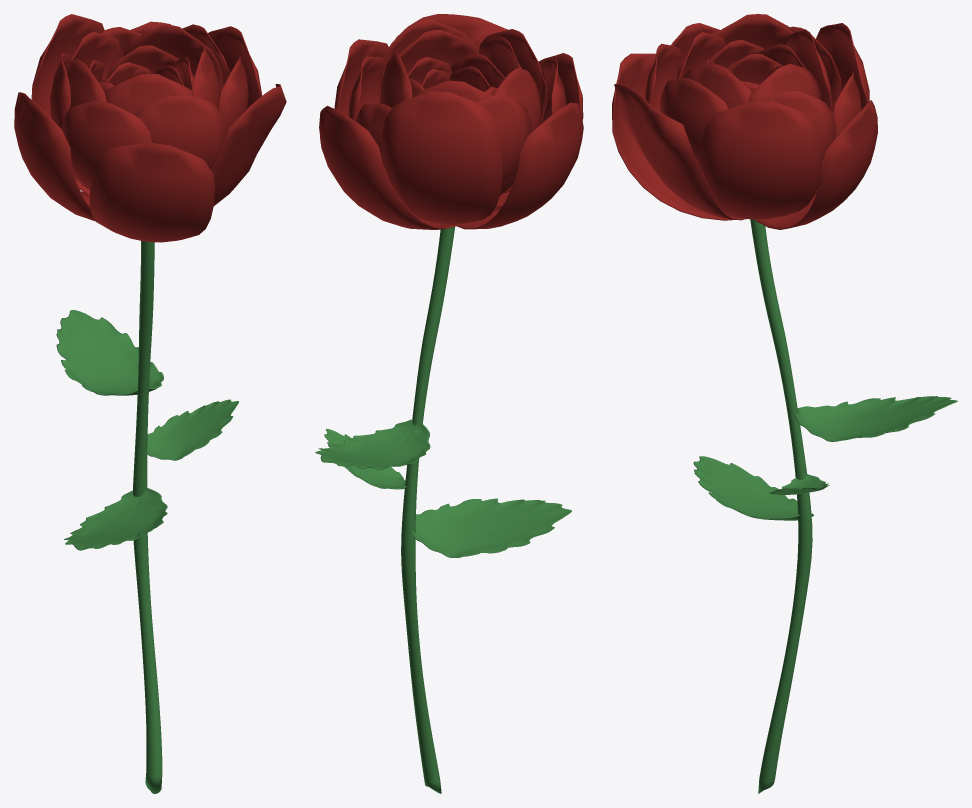
Rendered from Rose.fbx.
The picture shows the model from 3 angles, left to right: view 1: azimuth 30°, elevation 25°; view 2: azimuth 150°, elevation 25°; view 3: azimuth 270°, elevation 25°; orthographic projection.
Visible parts, largest first — view 1: Sphere.019, Cylinder, Sphere.008, Sphere.020, Sphere.029, Sphere.034, Sphere.018, Sphere.007, Sphere.009, Sphere.001, Sphere.025, Sphere.027 (+10 smaller); view 2: Sphere.001, Cylinder, Sphere.007, Sphere.022, Sphere.020, Sphere.008, Sphere.030, Sphere.026, Sphere.028, Sphere.023, Sphere.032, Sphere.034 (+12 smaller); view 3: Sphere.023, Cylinder, Sphere.018, Sphere.022, Sphere.008, Sphere.007, Sphere.019, Sphere.033, Sphere.001, Sphere.026, Sphere.032, Sphere.025 (+10 smaller).
Part boxes in pixels (<box>): Sphere.019: <box>89,142,214,242</box>; Cylinder: <box>133,241,162,793</box>; Sphere.008: <box>56,310,163,395</box>; Sphere.020: <box>14,92,95,221</box>; Sphere.029: <box>61,100,151,190</box>; Sphere.034: <box>134,94,226,169</box>; Sphere.018: <box>211,84,286,205</box>; Sphere.007: <box>64,487,167,550</box>; Sphere.009: <box>146,399,238,460</box>; Sphere.001: <box>31,14,104,196</box>; Sphere.025: <box>123,25,223,95</box>; Sphere.027: <box>105,73,193,114</box>; Sphere.001: <box>380,91,502,224</box>; Cylinder: <box>401,226,454,793</box>; Sphere.007: <box>410,498,571,557</box>; Sphere.022: <box>319,105,460,229</box>; Sphere.020: <box>452,102,583,229</box>; Sphere.008: <box>315,419,430,469</box>; Sphere.030: <box>476,94,531,181</box>; Sphere.026: <box>399,29,479,74</box>; Sphere.028: <box>493,67,541,195</box>; Sphere.023: <box>334,39,388,116</box>; Sphere.032: <box>348,56,384,120</box>; Sphere.034: <box>479,29,546,123</box>; Sphere.023: <box>699,100,821,219</box>; Cylinder: <box>750,219,812,793</box>; Sphere.018: <box>614,84,744,220</box>; Sphere.022: <box>755,100,877,229</box>; Sphere.008: <box>794,396,957,441</box>; Sphere.007: <box>693,456,813,520</box>; Sphere.019: <box>612,53,746,220</box>; Sphere.033: <box>660,77,728,163</box>; Sphere.001: <box>815,23,869,194</box>; Sphere.026: <box>683,63,751,108</box>; Sphere.032: <box>760,91,835,159</box>; Sphere.025: <box>748,63,821,102</box>.
Size of the model in its own units: 276 by 871 by 367.
